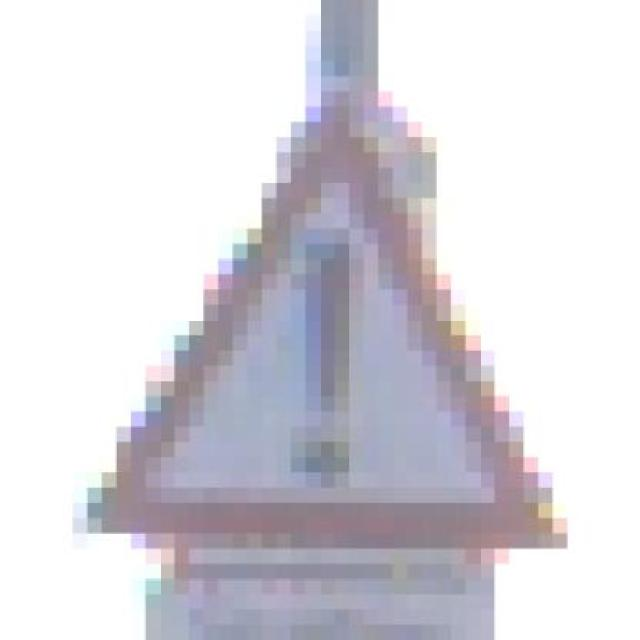Attention Please-: (44, 92, 582, 579)
